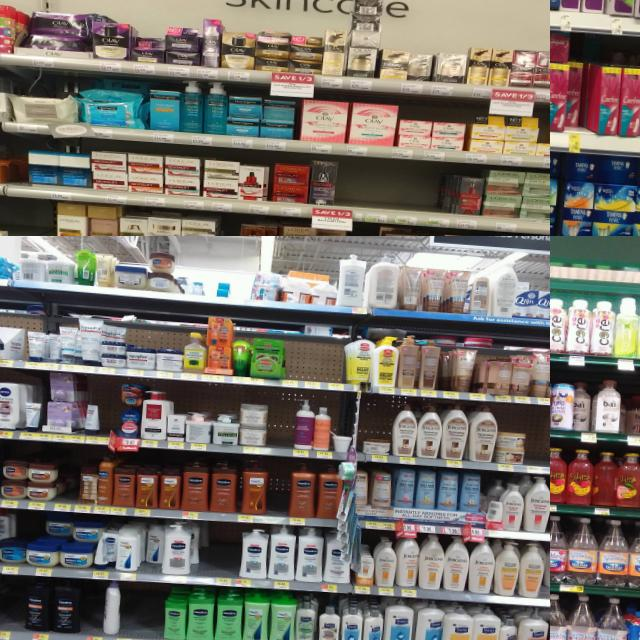100- O.O.S: (118, 582, 165, 640), (208, 521, 240, 586), (334, 158, 366, 221), (364, 158, 394, 223), (418, 162, 446, 226), (266, 396, 296, 455), (392, 162, 420, 225), (10, 198, 56, 236), (266, 462, 292, 524), (0, 577, 25, 640), (79, 580, 105, 640), (526, 410, 550, 474), (301, 341, 326, 388), (58, 458, 78, 510), (324, 344, 344, 390), (284, 342, 303, 388), (99, 387, 112, 445), (220, 215, 241, 236)
